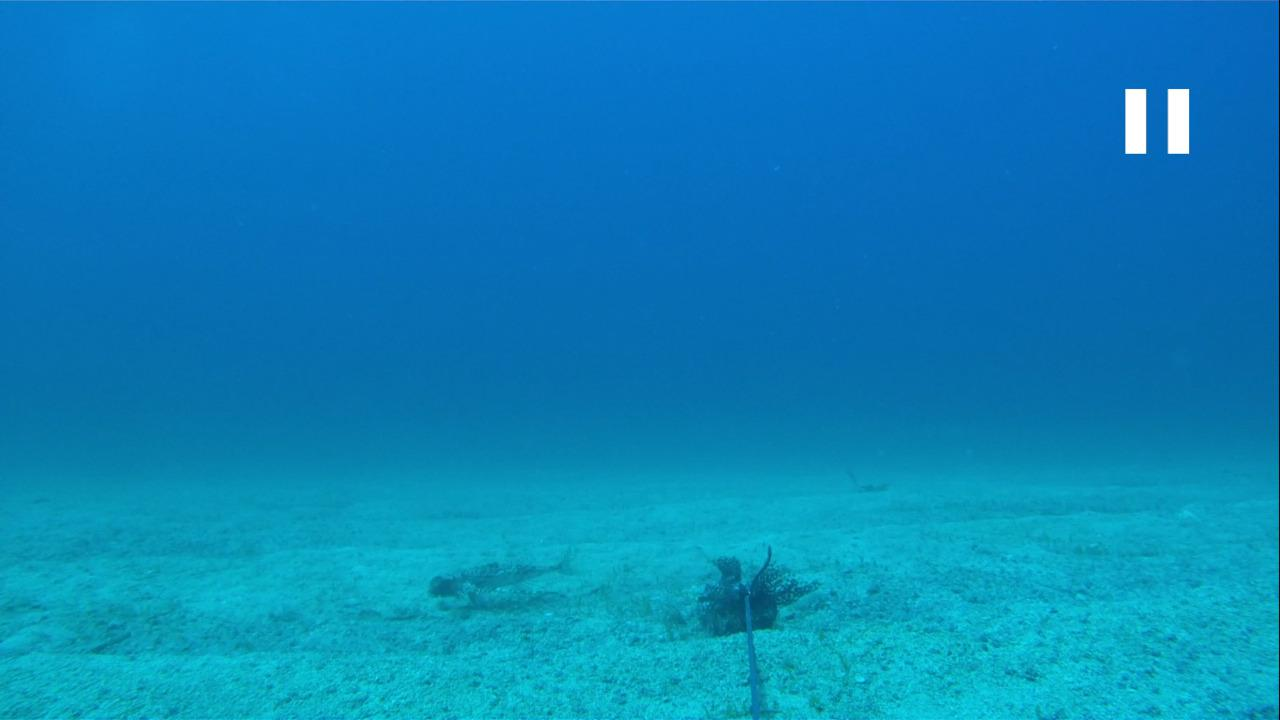dactylopterus: (420, 543, 587, 612)
